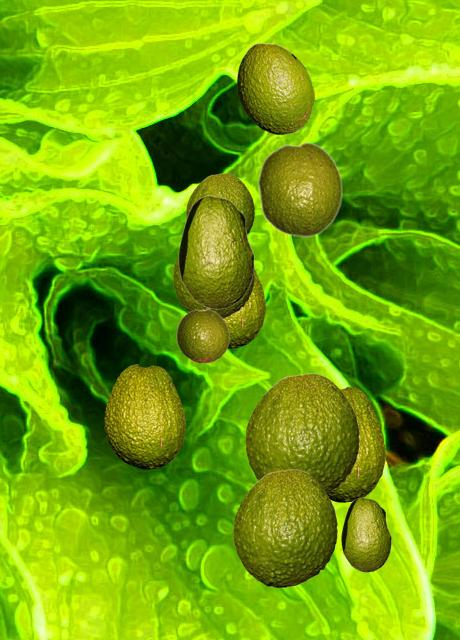avocado: (245, 373, 358, 493), (233, 469, 336, 586), (178, 195, 253, 308), (104, 364, 184, 468), (257, 141, 342, 237), (237, 43, 313, 133), (328, 386, 384, 501), (173, 257, 253, 318), (186, 173, 253, 234), (341, 497, 390, 571), (225, 267, 264, 347), (176, 309, 229, 362)
